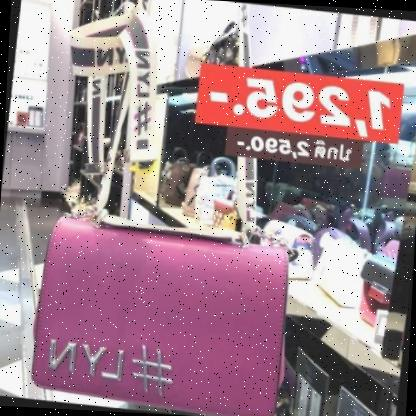bag: (21, 206, 302, 416)
